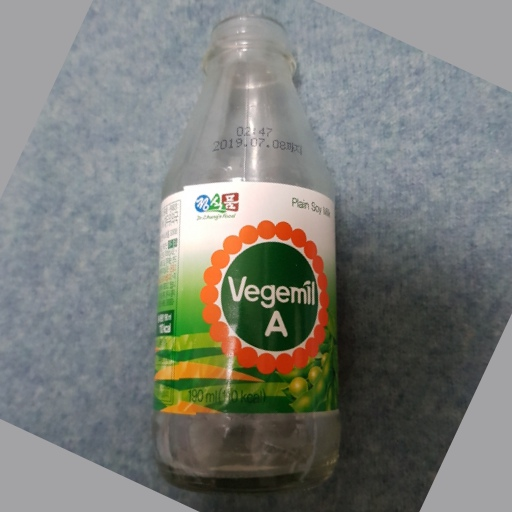Glass_4: (149, 15, 349, 488)
